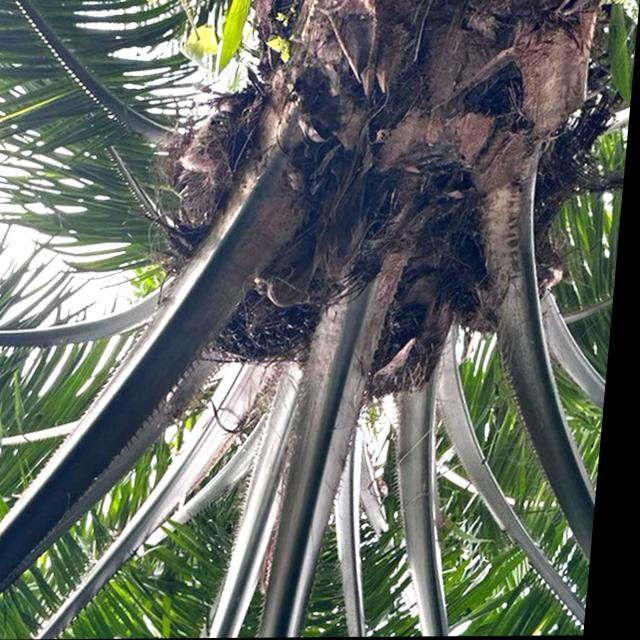ripe: (201, 273, 339, 394)
